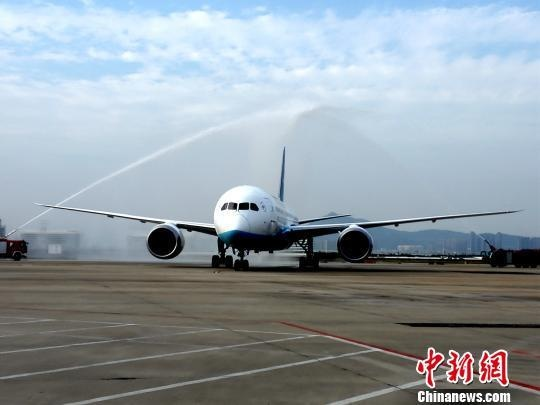airplane: (24, 142, 519, 273)
